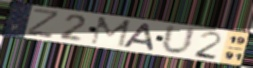2: (193, 31, 224, 61), (59, 14, 88, 42)
A: (121, 22, 156, 52)
M: (89, 16, 133, 49)
U: (159, 23, 198, 56)
Z: (25, 7, 62, 40)
